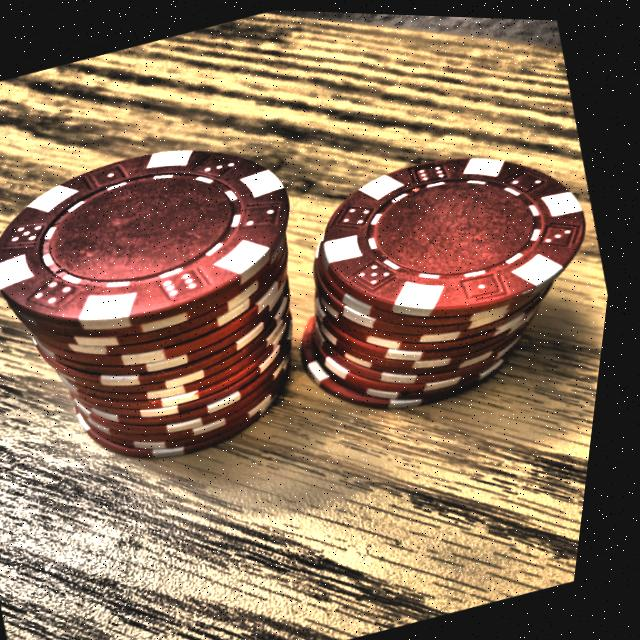Chip: (0, 89, 406, 520), (227, 99, 632, 456)
